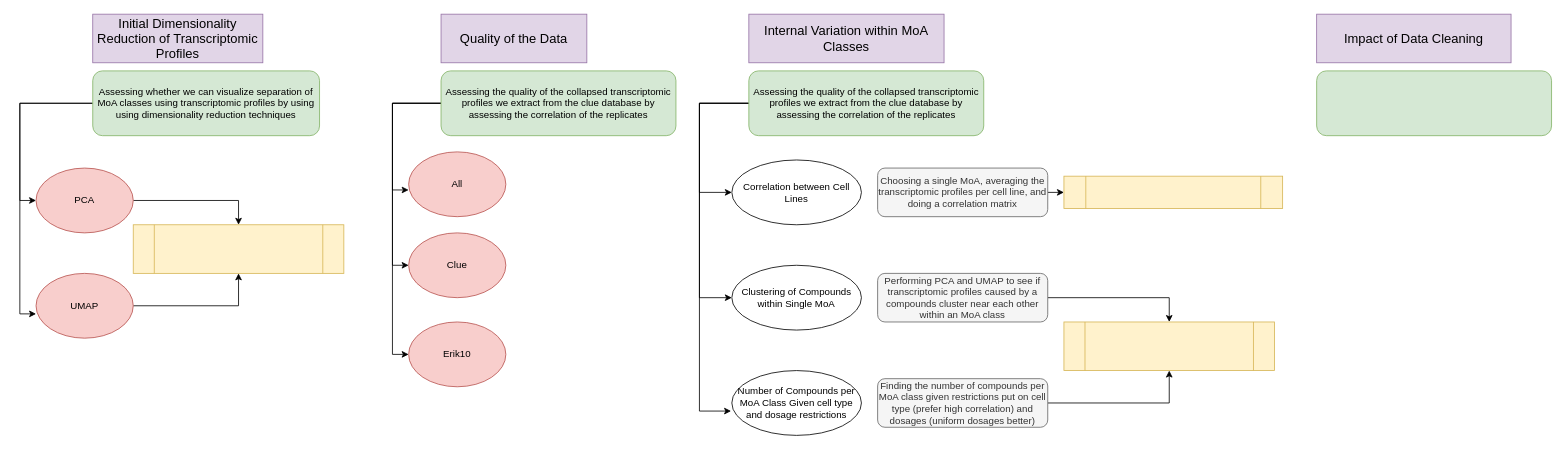
Image size: 1566x450. Some labels were removed from this diagram. The box of each missing label's shape, as (x1, y1, x2, y2) in pixels:
Assessing how cleaning the data in various ways affects prediction accuracy: (1316, 70, 1552, 136)
Erik_Cell-Line_Correlation_Analysis: (1063, 175, 1283, 209)
Erik_cmps-tprofiles_given_celltype-dosage: (1063, 321, 1275, 371)
feature_selection_dim_reduc: (132, 224, 344, 273)
